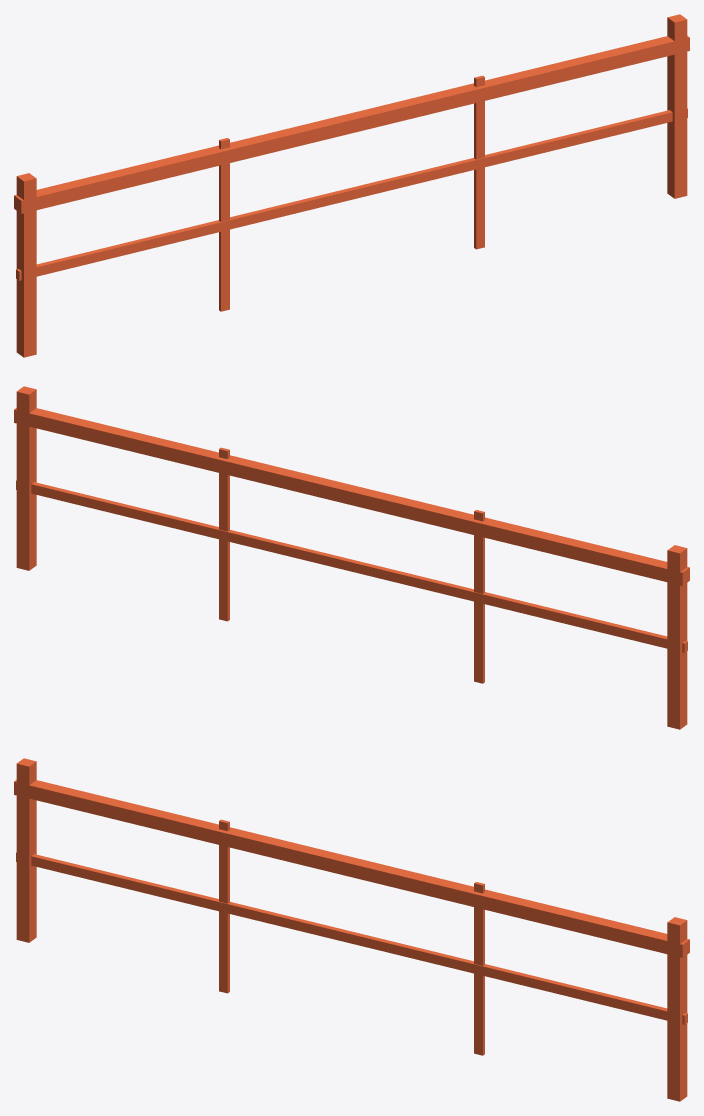
The model's file is gazebo_railing_large.glb.
The picture shows the model from 3 angles, top to bottom: view 1: azimuth 30°, elevation 25°; view 2: azimuth 150°, elevation 25°; view 3: azimuth 330°, elevation 25°; orthographic projection.
Parts seen in each view (by area): view 1: gazebo_railing_large.001; view 2: gazebo_railing_large.001; view 3: gazebo_railing_large.001.
Part boxes in pixels (x1,y1,x2,y2): gazebo_railing_large.001: [14, 14, 689, 357]; gazebo_railing_large.001: [14, 386, 689, 729]; gazebo_railing_large.001: [14, 758, 689, 1101].
Bounding box in the file's own units: 5.4 × 1.4 × 0.1021.
